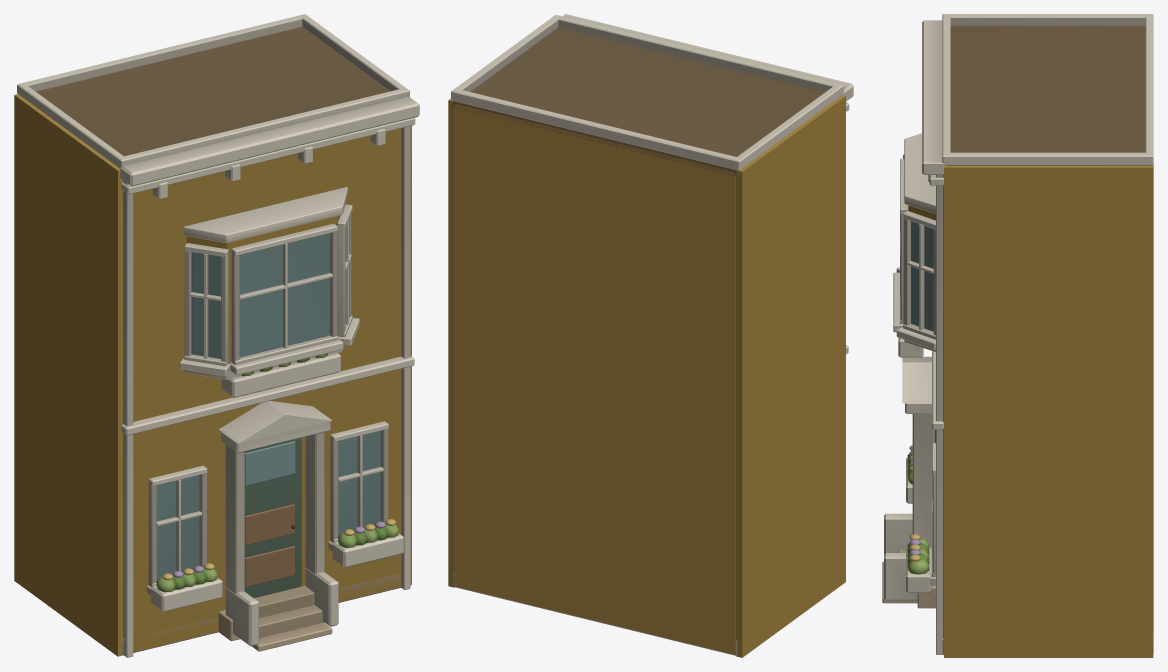
File: facade_sf_3.glb
3 views of the same model, side by side, from view 1: azimuth 30°, elevation 25°; view 2: azimuth 150°, elevation 25°; view 3: azimuth 270°, elevation 25° (orthographic).
Visible parts, largest first — view 1: facade_sf_3; view 2: facade_sf_3; view 3: facade_sf_3.
Boxes of the visible parts, x1=… form: facade_sf_3: x1=14, y1=14, x2=419, y2=657; facade_sf_3: x1=448, y1=14, x2=853, y2=657; facade_sf_3: x1=882, y1=14, x2=1153, y2=657.
Size of the model in its own units: 4.05 by 6.53 by 3.21.
